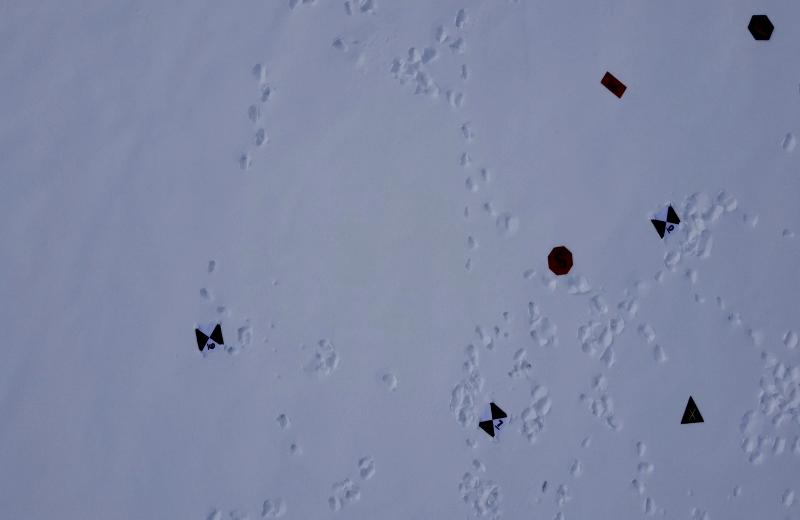Hexagon: (747, 10, 775, 42)
Octagon: (544, 244, 575, 278)
Rectangle: (597, 68, 628, 100)
Triangle: (679, 393, 708, 425)
